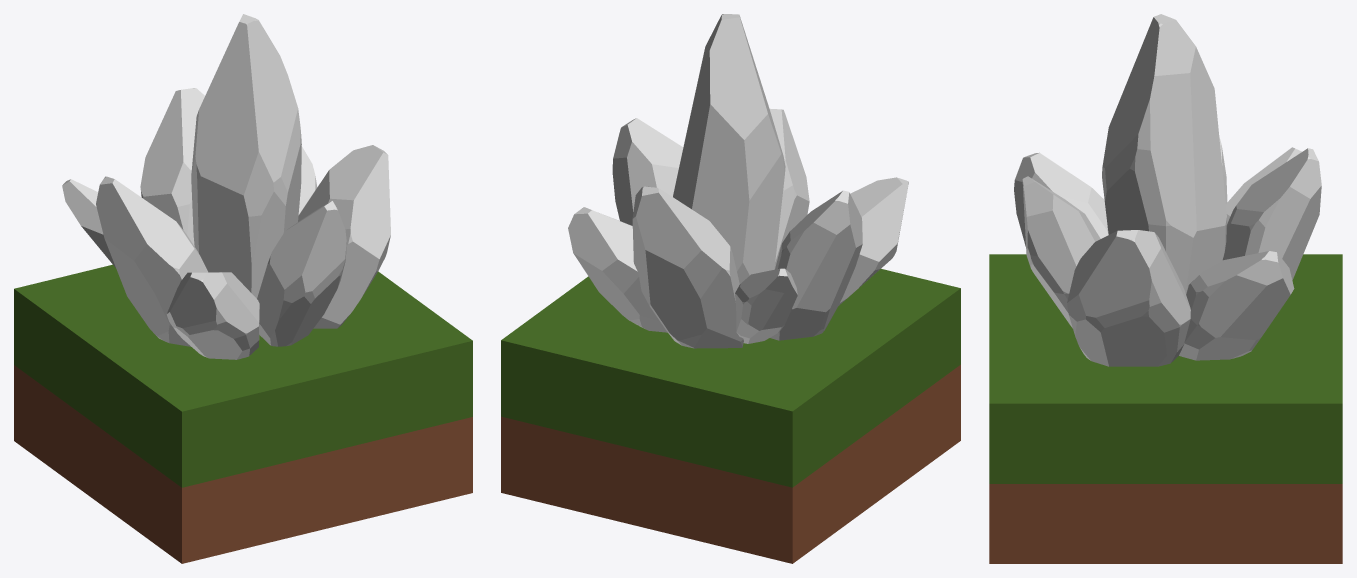
File: Crystal.fbx
The picture shows the model from 3 angles, left to right: view 1: azimuth 30°, elevation 25°; view 2: azimuth 150°, elevation 25°; view 3: azimuth 270°, elevation 25°; orthographic projection. The views are drawn at different scales.
Visible parts, largest first — view 1: Crystal, Sphere, Sphere.003, Sphere.002, Sphere.004, Sphere.006, Sphere.001, Sphere.007, Sphere.005; view 2: Crystal, Sphere, Sphere.001, Sphere.003, Sphere.005, Sphere.004, Sphere.006, Sphere.007, Sphere.002; view 3: Crystal, Sphere, Sphere.004, Sphere.005, Sphere.001, Sphere.002, Sphere.006, Sphere.007.
Part boxes in pixels (left/top/right/bottom): Crystal: left=14, top=264, right=472, bottom=563; Sphere: left=191, top=14, right=301, bottom=298; Sphere.003: left=96, top=176, right=208, bottom=346; Sphere.002: left=257, top=200, right=346, bottom=346; Sphere.004: left=298, top=145, right=390, bottom=328; Sphere.006: left=166, top=272, right=259, bottom=359; Sphere.001: left=140, top=88, right=204, bottom=245; Sphere.007: left=62, top=179, right=115, bottom=267; Sphere.005: left=298, top=146, right=317, bottom=214; Crystal: left=501, top=269, right=960, bottom=563; Sphere: left=673, top=14, right=785, bottom=284; Sphere.001: left=632, top=186, right=743, bottom=348; Sphere.003: left=770, top=190, right=862, bottom=340; Sphere.005: left=568, top=207, right=667, bottom=332; Sphere.004: left=612, top=118, right=683, bottom=225; Sphere.006: left=838, top=177, right=908, bottom=305; Sphere.007: left=735, top=268, right=797, bottom=343; Sphere.002: left=769, top=108, right=809, bottom=269; Crystal: left=989, top=254, right=1342, bottom=563; Sphere: left=1102, top=14, right=1226, bottom=294; Sphere.004: left=1067, top=230, right=1190, bottom=366; Sphere.005: left=1179, top=251, right=1294, bottom=360; Sphere.001: left=1222, top=148, right=1321, bottom=280; Sphere.002: left=1022, top=176, right=1100, bottom=328; Sphere.006: left=1014, top=152, right=1108, bottom=246; Sphere.007: left=1226, top=147, right=1301, bottom=224.
Bounding box in the file's own units: 100 × 147 × 100.
